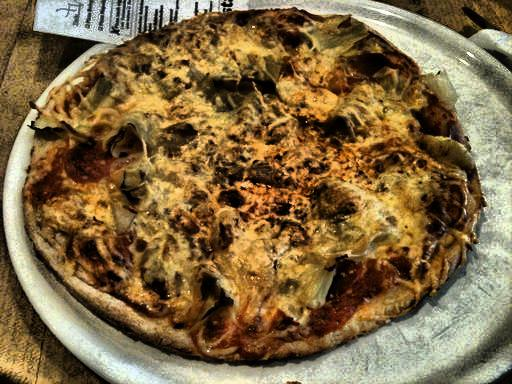pizza: (27, 9, 497, 360)
